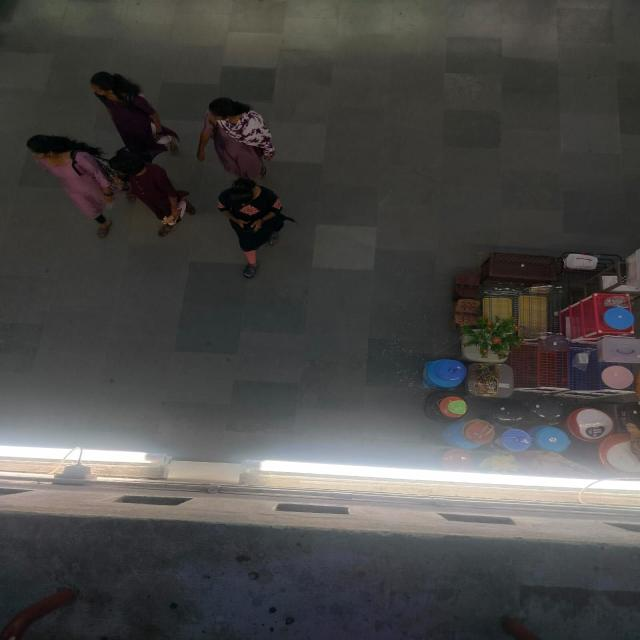humans: (24, 129, 122, 246), (84, 66, 185, 150), (109, 147, 200, 239), (190, 94, 287, 180), (215, 174, 294, 278)
